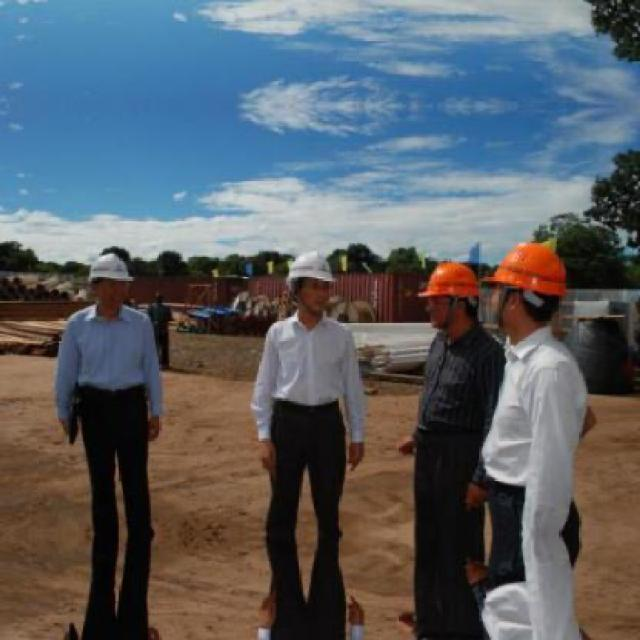con casco: (463, 239, 595, 349), (253, 250, 361, 328), (44, 254, 161, 318), (418, 254, 486, 334)
